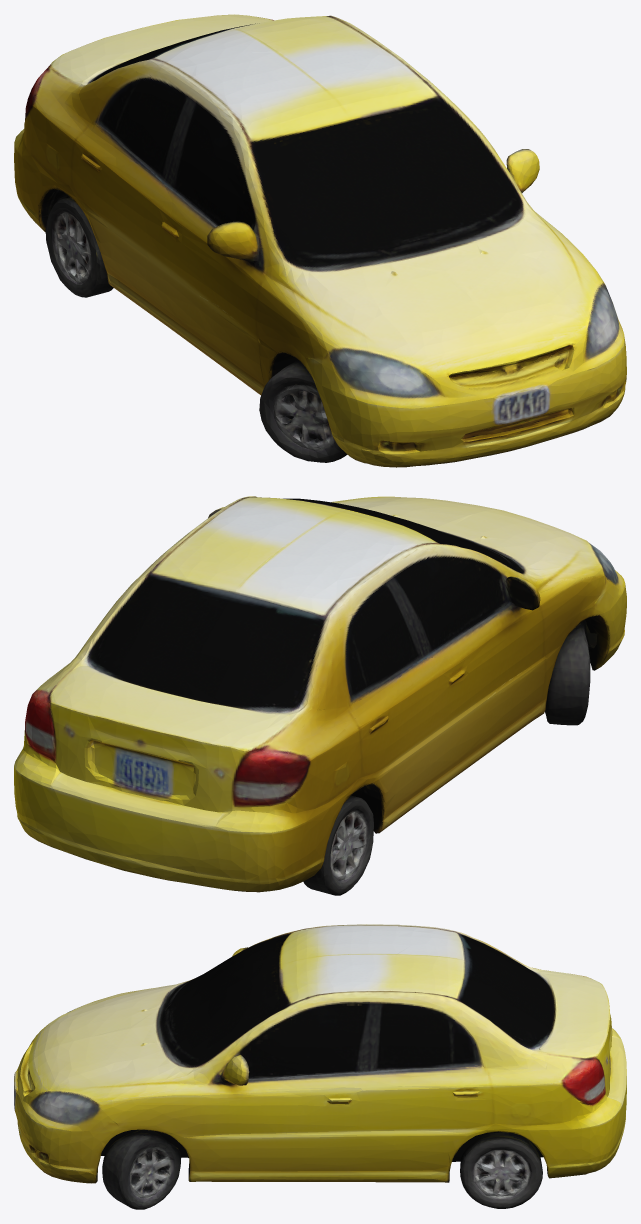
Rendered from Stylus.glb.
3 renders of one model, top to bottom at view 1: azimuth 30°, elevation 25°; view 2: azimuth 150°, elevation 25°; view 3: azimuth 270°, elevation 25°, orthographic. The views are drawn at different scales.
Visible parts, largest first — view 1: world; view 2: world; view 3: world.
Part boxes in pixels (x1=…): world: x1=14, y1=14, x2=626, y2=467; world: x1=14, y1=496, x2=626, y2=895; world: x1=14, y1=924, x2=626, y2=1209.
Bounding box in the file's own units: 0.4899 × 0.3637 × 1.
1 material, 1 textured.
